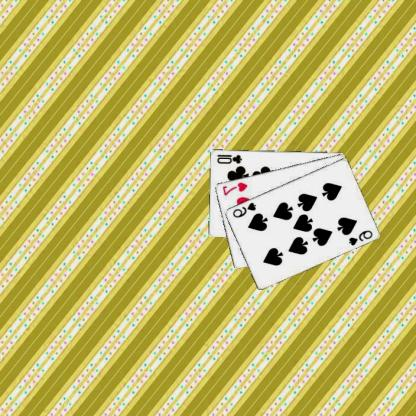10C: (216, 152, 245, 164)
7H: (221, 180, 250, 196)
9S: (348, 228, 375, 246), (232, 200, 258, 218)
